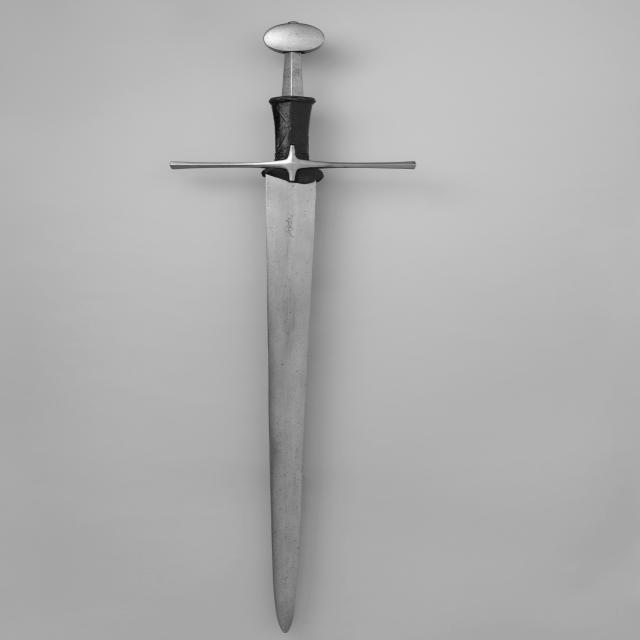Weapon: (170, 21, 416, 632)
